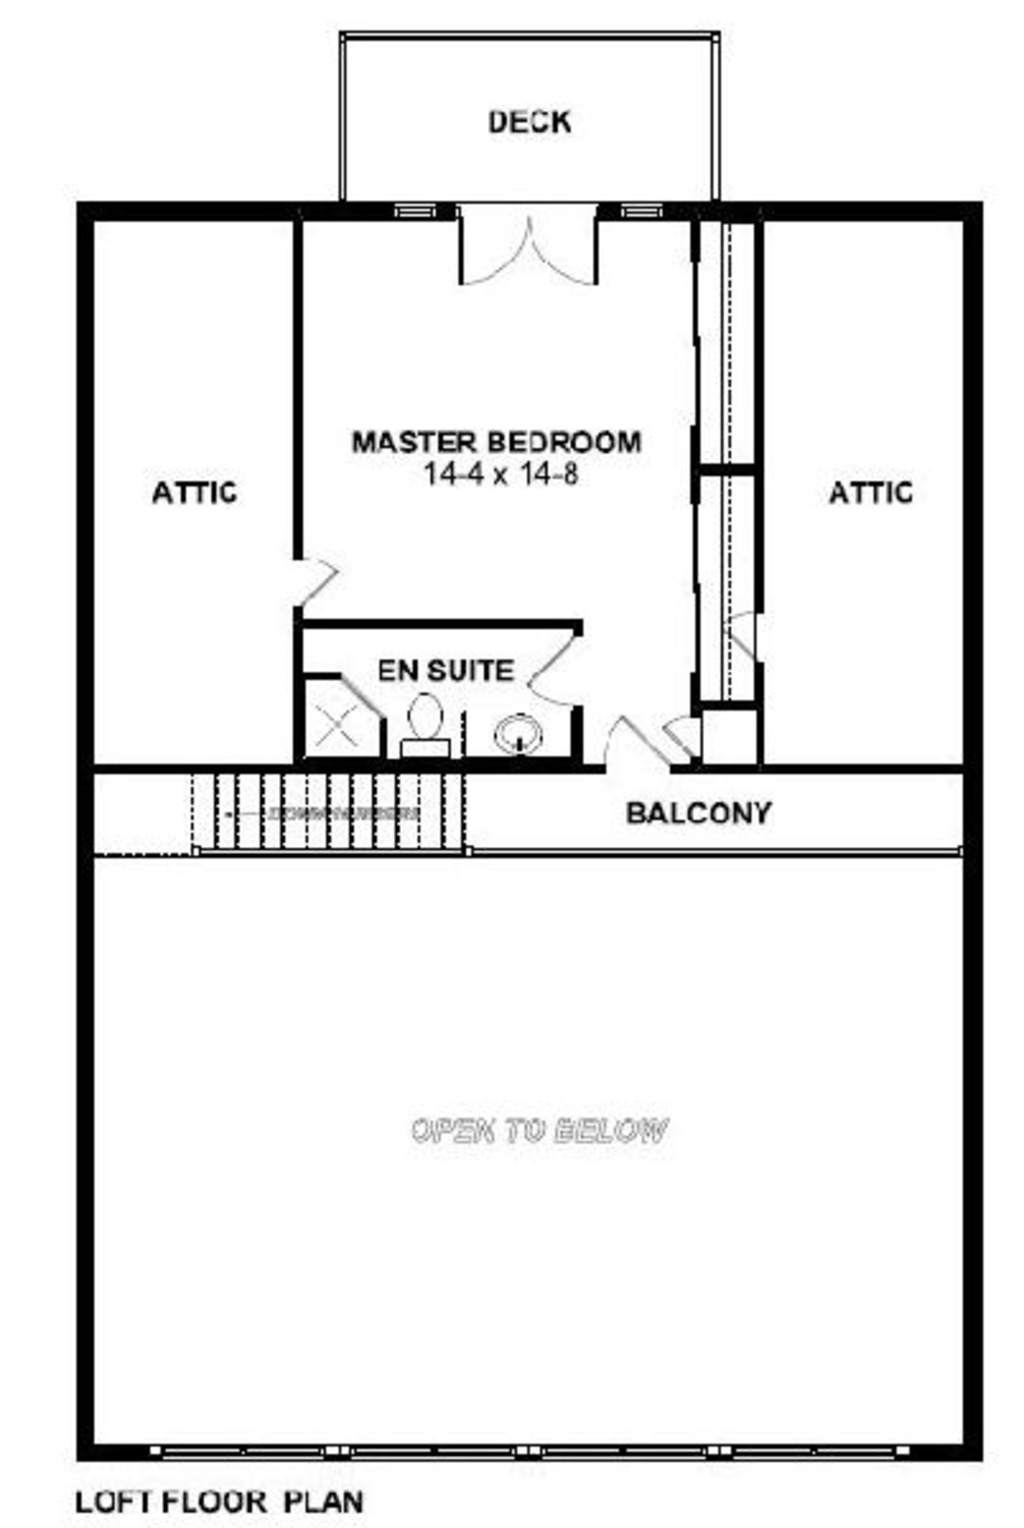door: (453, 194, 603, 294), (515, 629, 594, 717), (283, 545, 353, 619), (601, 717, 671, 773), (720, 608, 789, 659), (661, 710, 706, 759)
large_sink: (390, 685, 459, 752)
small_sink: (483, 706, 555, 754)
window: (160, 771, 483, 873)
